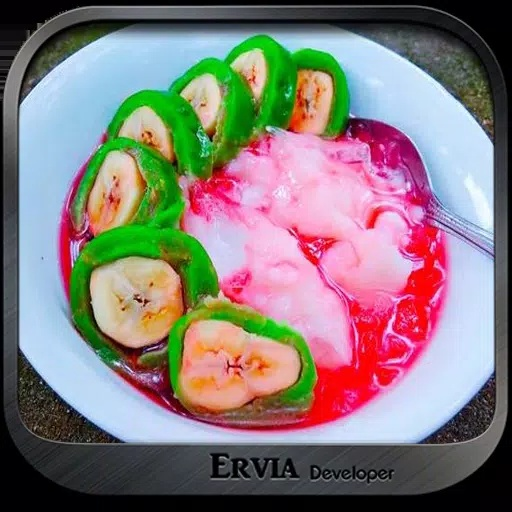es_pisang_ijo: (63, 35, 450, 435)
